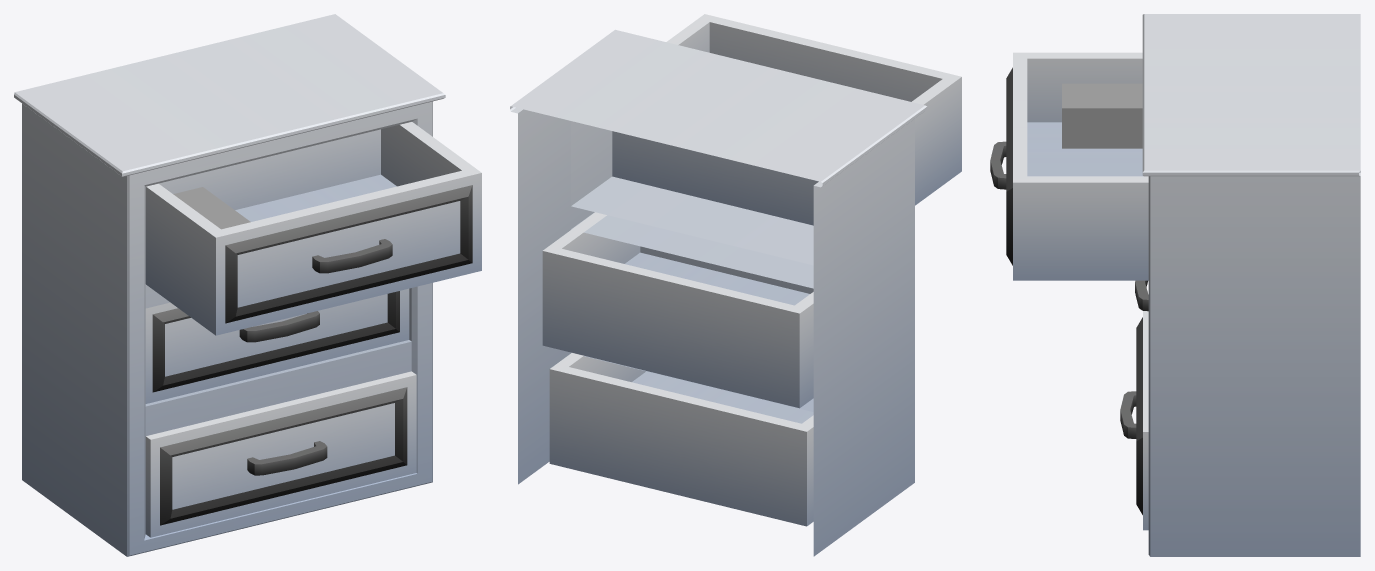
The model's file is Drawer.fbx.
The picture shows the model from 3 angles, left to right: view 1: azimuth 30°, elevation 25°; view 2: azimuth 150°, elevation 25°; view 3: azimuth 270°, elevation 25°; orthographic projection. The views are drawn at different scales.
Visible parts, largest first — view 1: structure, Drawer_1, Drawer_3, Drawer_2, Something; view 2: structure, Drawer_2, Drawer_3, Drawer_1; view 3: structure, Drawer_1, Something, Drawer_3.
Part boxes in pixels (x1=…): structure: x1=14, y1=14, x2=445, y2=556; Drawer_1: x1=145, y1=122, x2=481, y2=335; Drawer_3: x1=145, y1=371, x2=416, y2=537; Drawer_2: x1=145, y1=288, x2=409, y2=403; Something: x1=173, y1=187, x2=250, y2=229; structure: x1=510, y1=29, x2=927, y2=556; Drawer_2: x1=542, y1=212, x2=813, y2=408; Drawer_3: x1=549, y1=353, x2=813, y2=526; Drawer_1: x1=612, y1=14, x2=961, y2=225; structure: x1=1142, y1=14, x2=1360, y2=556; Drawer_1: x1=990, y1=52, x2=1148, y2=280; Something: x1=1062, y1=83, x2=1142, y2=148; Drawer_3: x1=1120, y1=311, x2=1148, y2=530.
Bounding box in the file's own units: 10.58 × 12.18 × 10.48.
2 materials, 1 textured.
